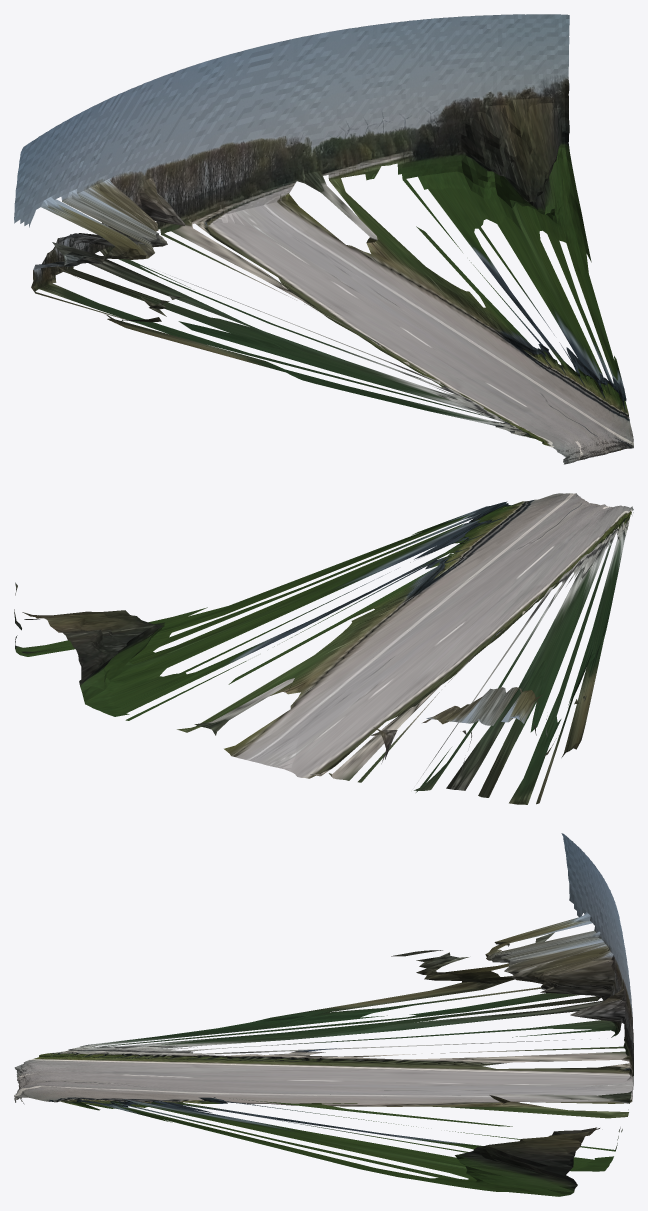
The picture shows the model from 3 angles, top to bottom: view 1: azimuth 30°, elevation 25°; view 2: azimuth 150°, elevation 25°; view 3: azimuth 270°, elevation 25°; orthographic projection. The views are drawn at different scales.
Parts seen in each view (by area): view 1: defaultobject; view 2: defaultobject; view 3: defaultobject.
Boxes of the visible parts, x1,y1,x2,y2 form: defaultobject: (14, 14, 633, 464); defaultobject: (14, 493, 633, 804); defaultobject: (14, 833, 633, 1196).
Bounding box in the file's own units: 41.03 × 12.37 × 44.31.
1 material, 1 textured.
